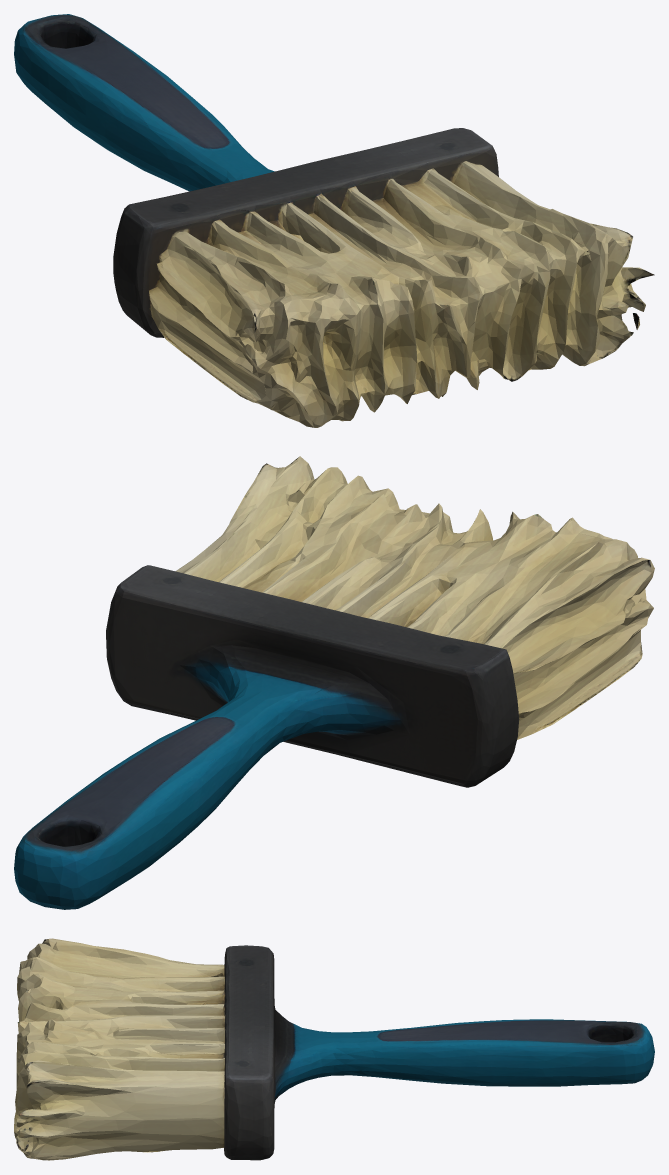
File: anvil_brush.glb
3 renders of one model, top to bottom at view 1: azimuth 30°, elevation 25°; view 2: azimuth 150°, elevation 25°; view 3: azimuth 270°, elevation 25°, orthographic. The views are drawn at different scales.
Visible parts, largest first — view 1: world; view 2: world; view 3: world.
Part boxes in pixels (x1,y1,x2,y2): world: (14,14,654,427); world: (14,456,654,909); world: (14,938,654,1160).
Bounding box in the file's own units: 0.5348 × 0.1872 × 0.999.
1 material, 1 textured.
